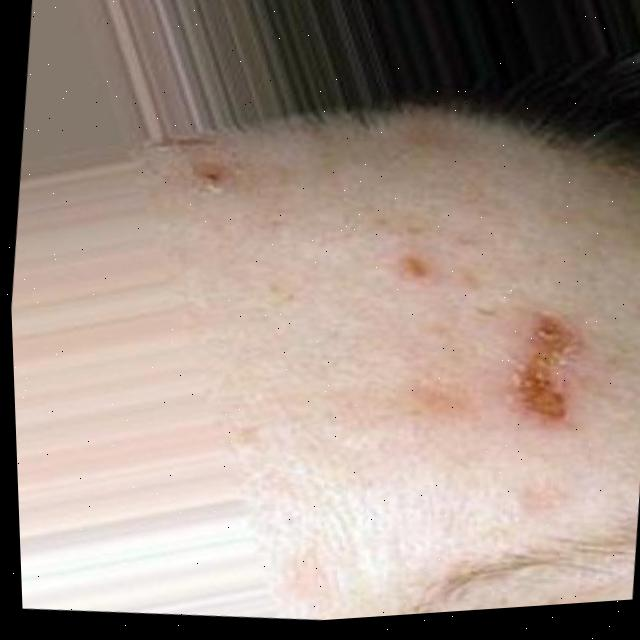Rosacea: (519, 316, 572, 413)
